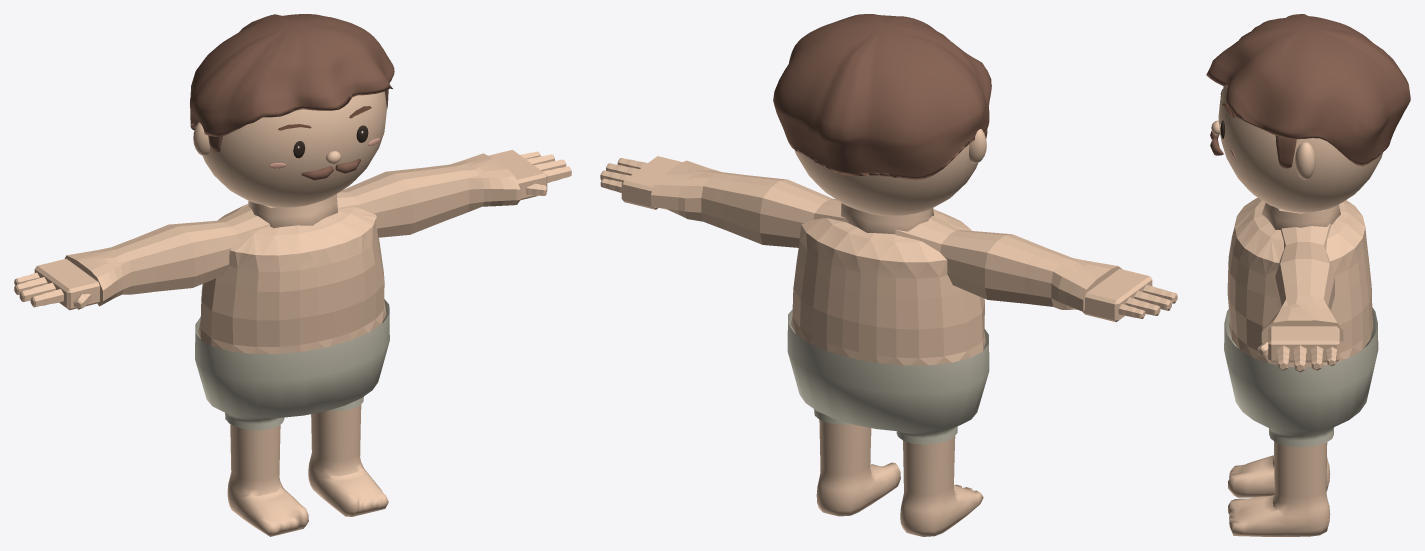
Rendered from 2 karakter.fbx.
The picture shows the model from 3 angles, left to right: view 1: azimuth 30°, elevation 25°; view 2: azimuth 150°, elevation 25°; view 3: azimuth 270°, elevation 25°; orthographic projection. The views are drawn at different scales.
Visible parts, largest first — view 1: Erkek – Temel Model – Karakter_1_İç_Çamaşırlı_Karakter.004, Erkek – Temel Model – Karakter_1_İç_Çamaşırlı_Sol_Favori.001, Erkek – Temel Model – Karakter_1_İç_Çamaşırlı_Örtücü_İç_Çama, Erkek – Temel Model – Karakter_1_Seviye_1_Yuvarlak_Baş; view 2: Erkek – Temel Model – Karakter_1_İç_Çamaşırlı_Karakter.004, Erkek – Temel Model – Karakter_1_İç_Çamaşırlı_Sol_Favori.001, Erkek – Temel Model – Karakter_1_İç_Çamaşırlı_Örtücü_İç_Çama, Erkek – Temel Model – Karakter_1_Seviye_1_Yuvarlak_Baş; view 3: Erkek – Temel Model – Karakter_1_İç_Çamaşırlı_Karakter.004, Erkek – Temel Model – Karakter_1_İç_Çamaşırlı_Sol_Favori.001, Erkek – Temel Model – Karakter_1_İç_Çamaşırlı_Örtücü_İç_Çama, Erkek – Temel Model – Karakter_1_Seviye_1_Yuvarlak_Baş, Erkek – Temel Model – Karakter_1_Seviye_1_Sol_Yuvarlak_Kulak.
Part boxes in pixels (<box>): Erkek – Temel Model – Karakter_1_İç_Çamaşırlı_Karakter.004: <box>14,150,571,536</box>; Erkek – Temel Model – Karakter_1_İç_Çamaşırlı_Sol_Favori.001: <box>190,14,394,152</box>; Erkek – Temel Model – Karakter_1_İç_Çamaşırlı_Örtücü_İç_Çama: <box>195,299,389,430</box>; Erkek – Temel Model – Karakter_1_Seviye_1_Yuvarlak_Baş: <box>195,91,386,207</box>; Erkek – Temel Model – Karakter_1_İç_Çamaşırlı_Karakter.004: <box>600,156,1177,536</box>; Erkek – Temel Model – Karakter_1_İç_Çamaşırlı_Sol_Favori.001: <box>773,14,991,180</box>; Erkek – Temel Model – Karakter_1_İç_Çamaşırlı_Örtücü_İç_Çama: <box>787,309,989,444</box>; Erkek – Temel Model – Karakter_1_Seviye_1_Yuvarlak_Baş: <box>794,144,978,216</box>; Erkek – Temel Model – Karakter_1_İç_Çamaşırlı_Karakter.004: <box>1227,197,1373,536</box>; Erkek – Temel Model – Karakter_1_İç_Çamaşırlı_Sol_Favori.001: <box>1206,14,1410,168</box>; Erkek – Temel Model – Karakter_1_İç_Çamaşırlı_Örtücü_İç_Çama: <box>1224,307,1378,447</box>; Erkek – Temel Model – Karakter_1_Seviye_1_Yuvarlak_Baş: <box>1218,86,1382,212</box>; Erkek – Temel Model – Karakter_1_Seviye_1_Sol_Yuvarlak_Kulak: <box>1295,142,1315,179</box>.
Bounding box in the file's own units: 9.12 × 7.6 × 2.92.
